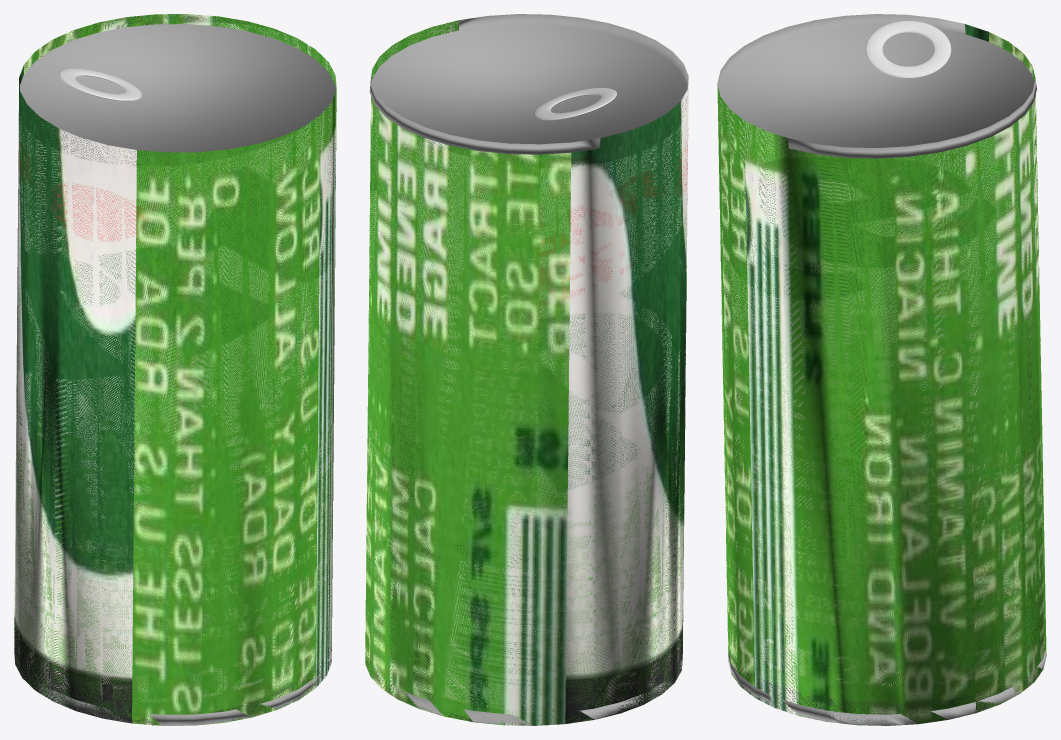
The model's file is sprite_can.glb.
3 views of the same model, side by side, from view 1: azimuth 30°, elevation 25°; view 2: azimuth 150°, elevation 25°; view 3: azimuth 270°, elevation 25° (orthographic).
Visible parts, largest first — view 1: Cylinder, Torus; view 2: Cylinder, Torus; view 3: Cylinder, Torus.
Part boxes in pixels (box(x1,y1,x2,y2)): Cylinder: box(14, 14, 336, 725); Torus: box(59, 68, 141, 101); Cylinder: box(365, 14, 688, 725); Torus: box(534, 87, 616, 120); Cylinder: box(717, 14, 1046, 725); Torus: box(865, 20, 951, 77).
Size of the model in its own units: 2.01 by 4.12 by 2.07.
Materials: 2 (1 with a texture image).
